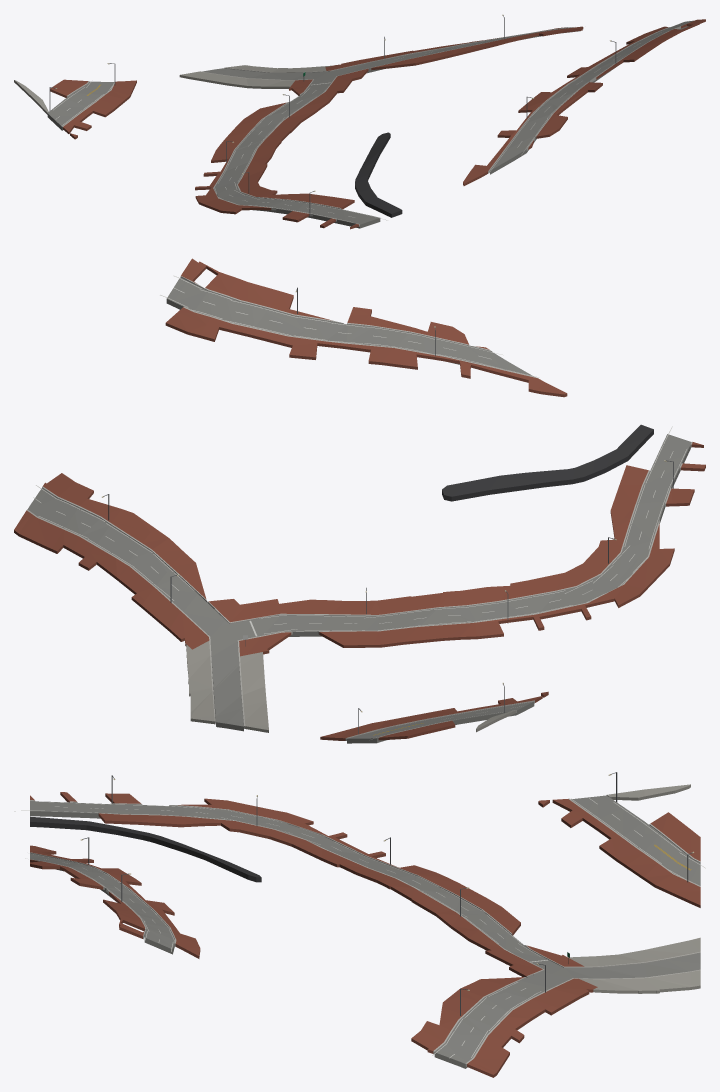
3 views of the same model, one above another, from view 1: azimuth 30°, elevation 25°; view 2: azimuth 150°, elevation 25°; view 3: azimuth 270°, elevation 25° (orthographic). The views are drawn at different scales.
Size of the model in its own units: 149 by 48.62 by 150.
